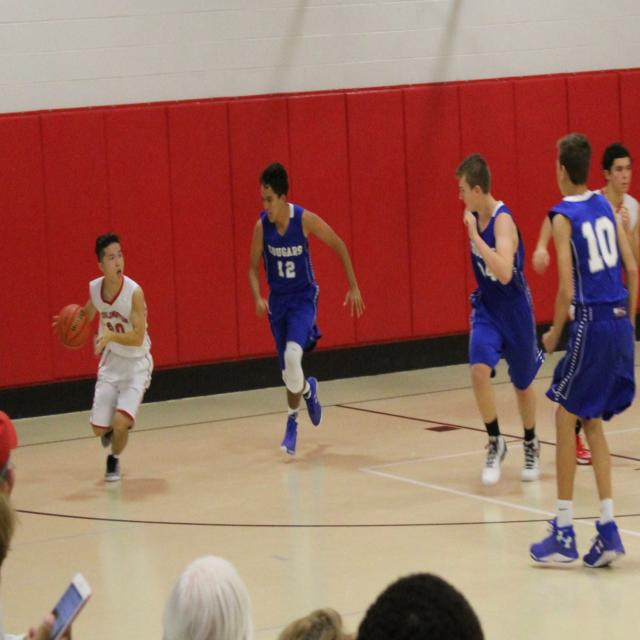body: (526, 132, 640, 570), (248, 162, 368, 462), (540, 140, 637, 466), (454, 152, 548, 487), (160, 554, 491, 640), (47, 232, 156, 484), (2, 572, 92, 638), (58, 469, 168, 510), (287, 440, 421, 473), (527, 551, 640, 580), (0, 409, 19, 572), (472, 469, 552, 499)
